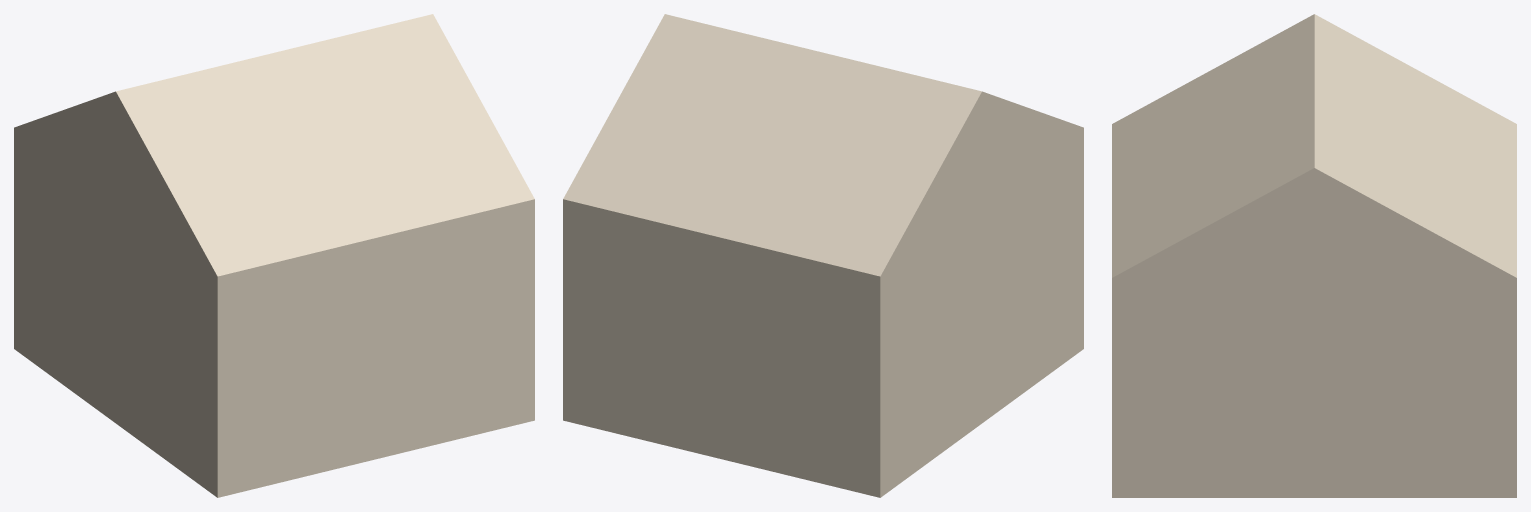
File: house.glb
3 views of the same model, side by side, from view 1: azimuth 30°, elevation 25°; view 2: azimuth 150°, elevation 25°; view 3: azimuth 270°, elevation 25° (orthographic).
Visible parts, largest first — view 1: house; view 2: house; view 3: house.
Boxes of the visible parts, left/top/right/bottom form: house: left=14, top=14, right=534, bottom=497; house: left=563, top=14, right=1083, bottom=497; house: left=1112, top=14, right=1516, bottom=497.
Bounding box in the file's own units: 9 × 9 × 10.
